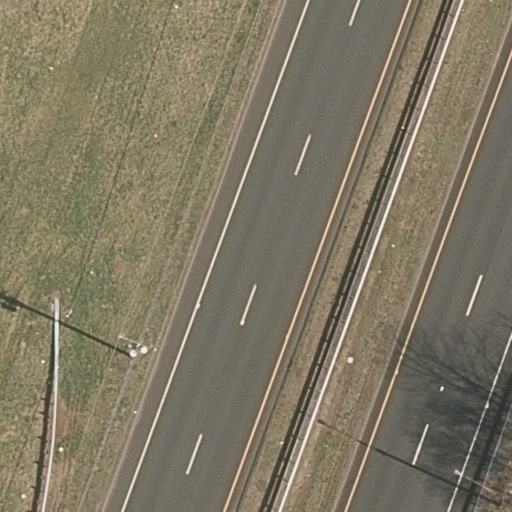DT: (113, 329, 163, 369)
